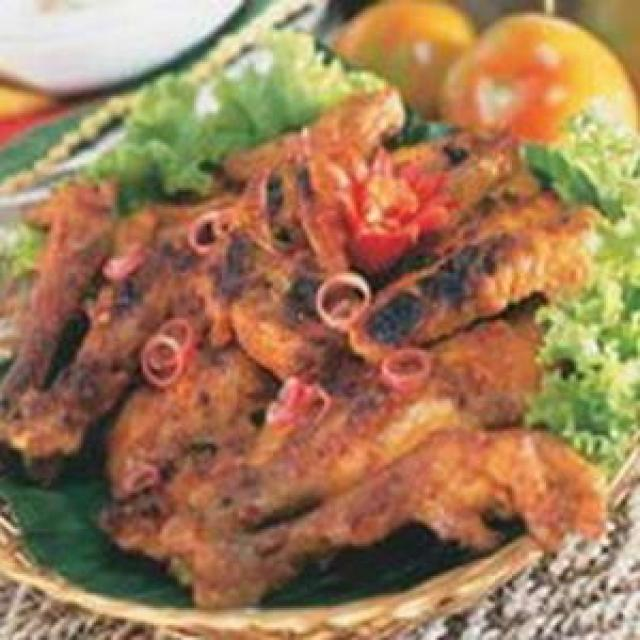鸡肉料理 含炸鸡: (26, 36, 634, 621)
